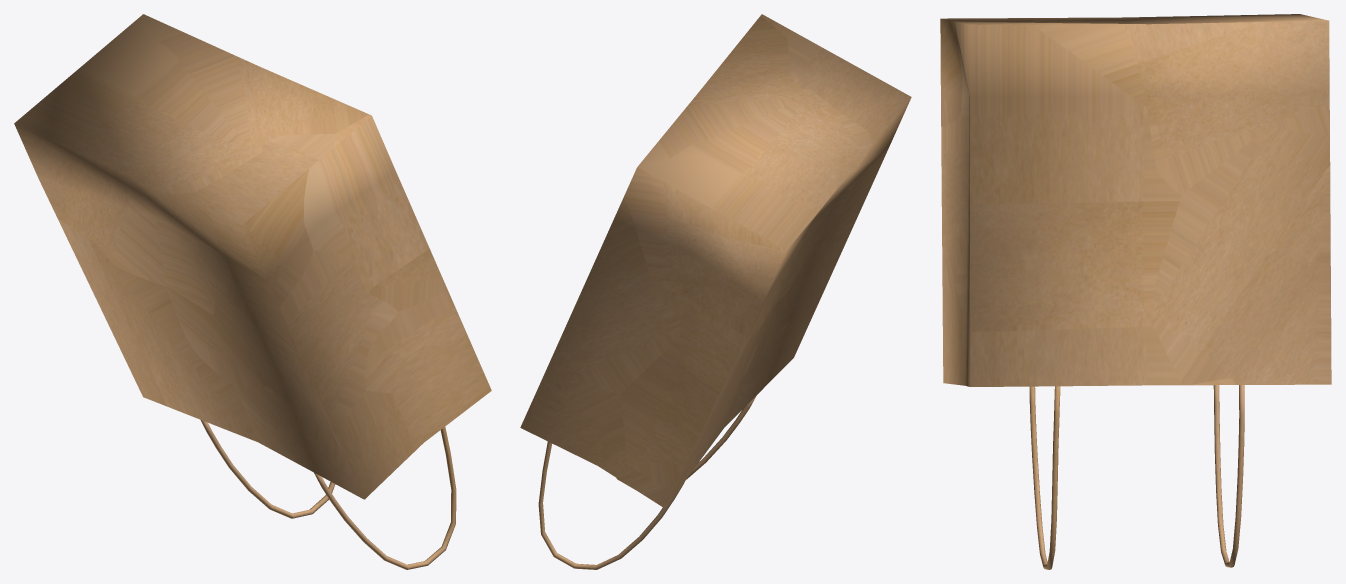
Rendered from paper_bag.glb.
3 renders of one model, left to right at view 1: azimuth 30°, elevation 25°; view 2: azimuth 150°, elevation 25°; view 3: azimuth 270°, elevation 25°, orthographic. The views are drawn at different scales.
Visible parts, largest first — view 1: tripo_part_1, tripo_part_2; view 2: tripo_part_1, tripo_part_2; view 3: tripo_part_1, tripo_part_2.
Boxes of the visible parts, x1,y1,x2,y2 form: tripo_part_1: [14, 14, 491, 499]; tripo_part_2: [200, 420, 456, 569]; tripo_part_1: [520, 14, 911, 508]; tripo_part_2: [538, 396, 756, 569]; tripo_part_1: [940, 14, 1331, 386]; tripo_part_2: [1029, 385, 1244, 569].
Bounding box in the file's own units: 0.6663 × 1.02 × 0.7118.
Materials: 2 (2 with a texture image).
